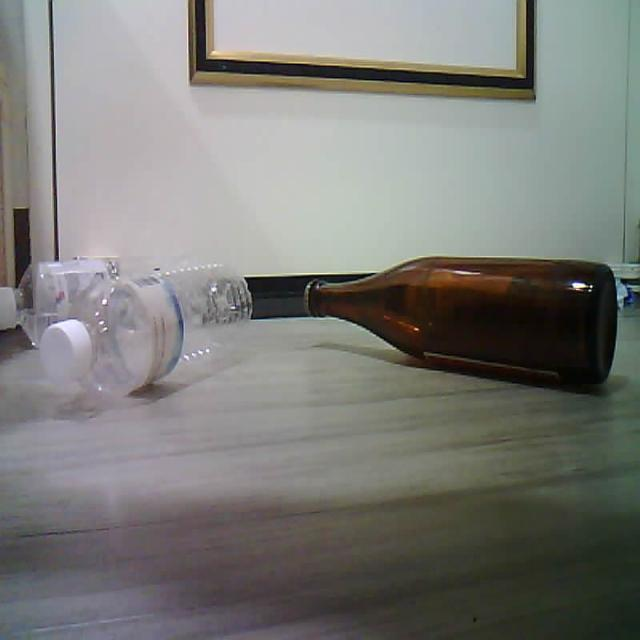bottle: (304, 257, 616, 383), (41, 263, 251, 395)
